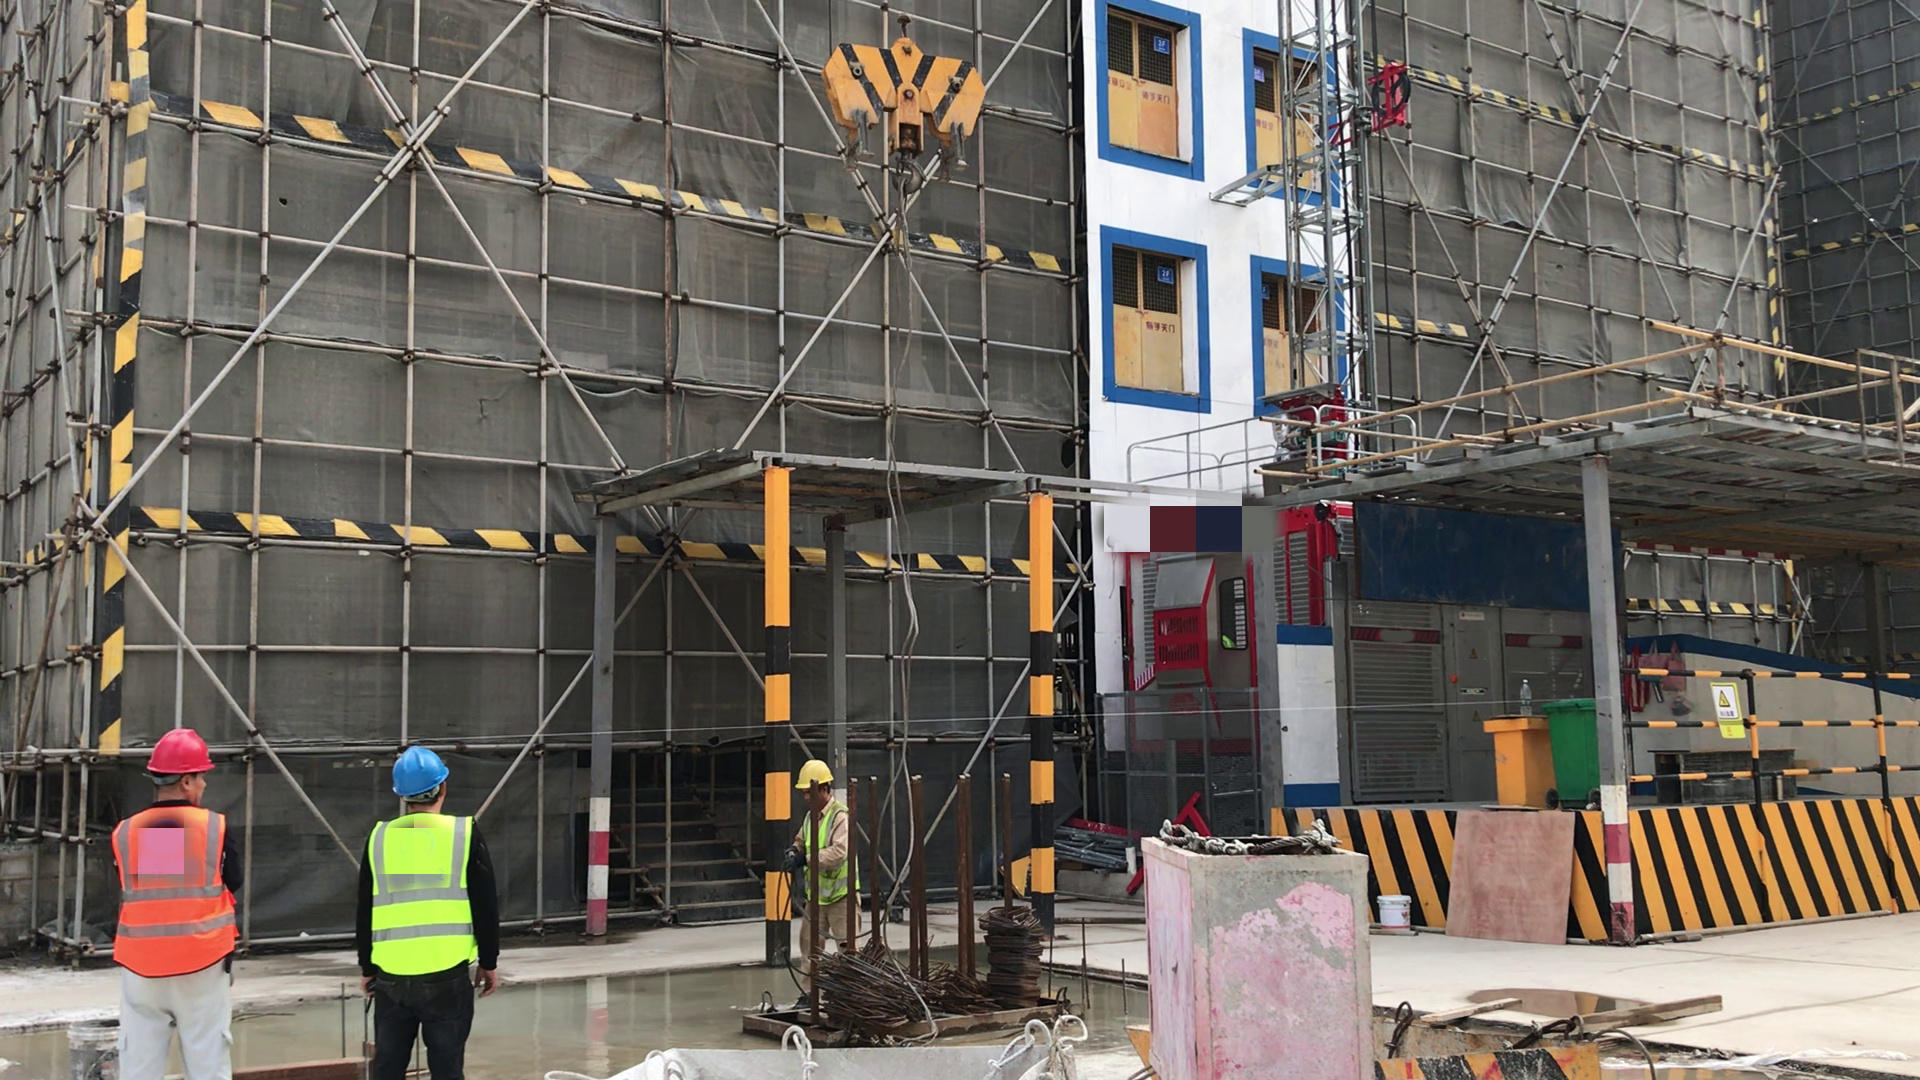helmet: (387, 743, 448, 798), (143, 728, 215, 773), (795, 761, 832, 794)
hook: (824, 35, 987, 197)
hopper: (578, 1038, 1084, 1077)
person: (100, 730, 242, 1080), (356, 745, 495, 1080), (781, 756, 862, 1008)
slogan: (1706, 680, 1751, 743)
vest: (113, 805, 241, 982), (367, 817, 480, 975), (799, 807, 847, 901)
